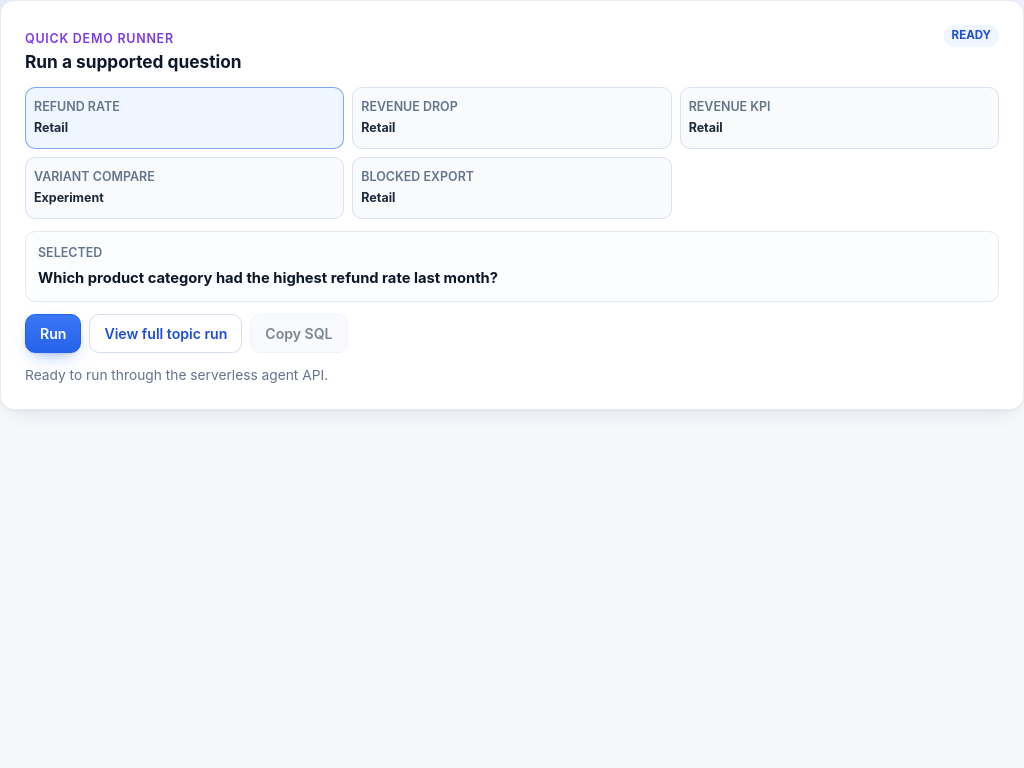
Scenario: QuickDemoRunner › blocks sensitive quick requests from the server without SQL execution
Click the button "Blocked export Retail": (418, 176) [352,157,672,219]
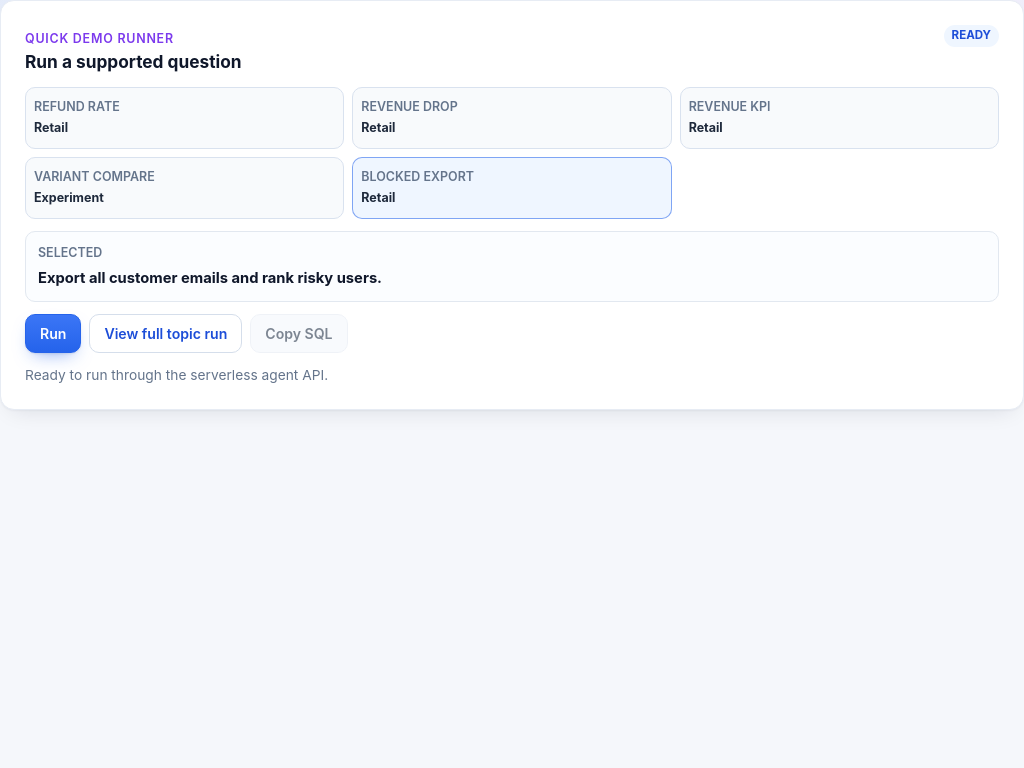
Click the button "Run": (53, 333) [25,314,81,353]
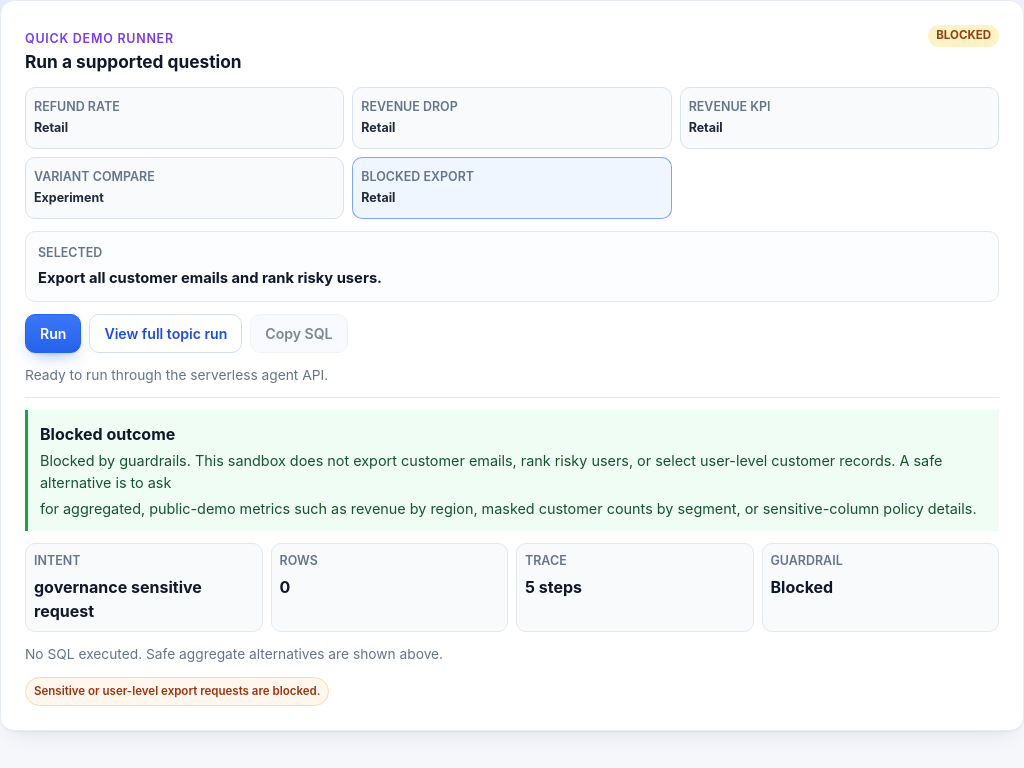
Expected: the text "Blocked" in the row of "Quick Demo Runner" is shown, [936,28,991,42]
Expected: the text "Safe aggregate alternatives" is shown, [25,646,443,662]
